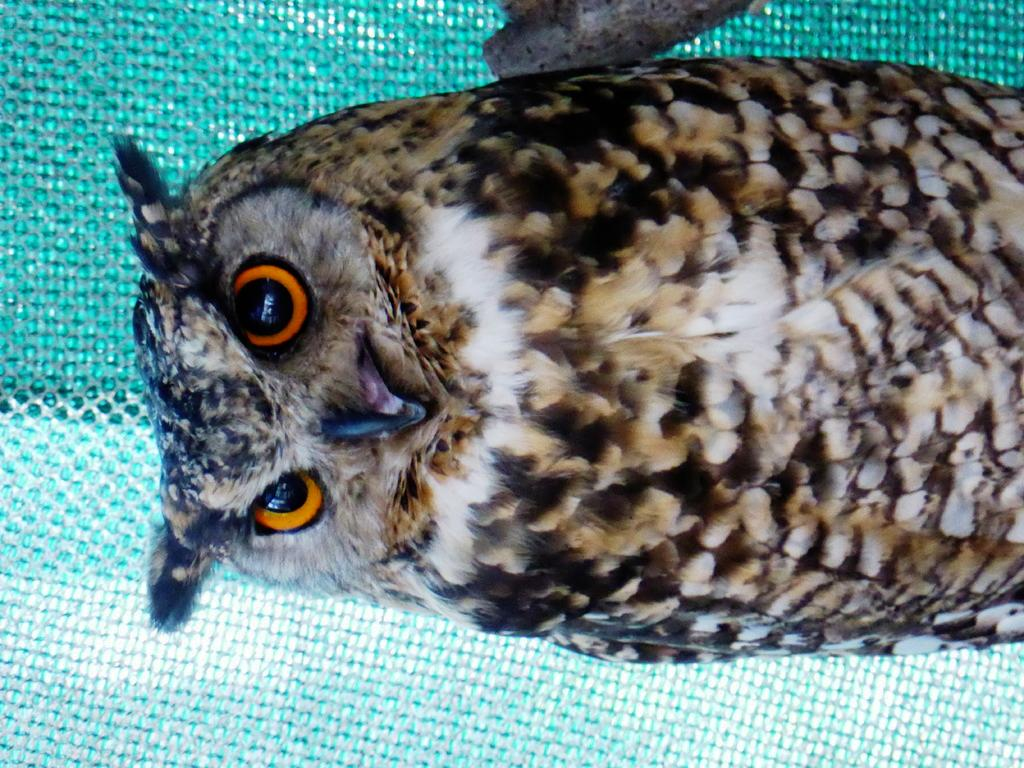Owl: (106, 62, 1024, 666)
